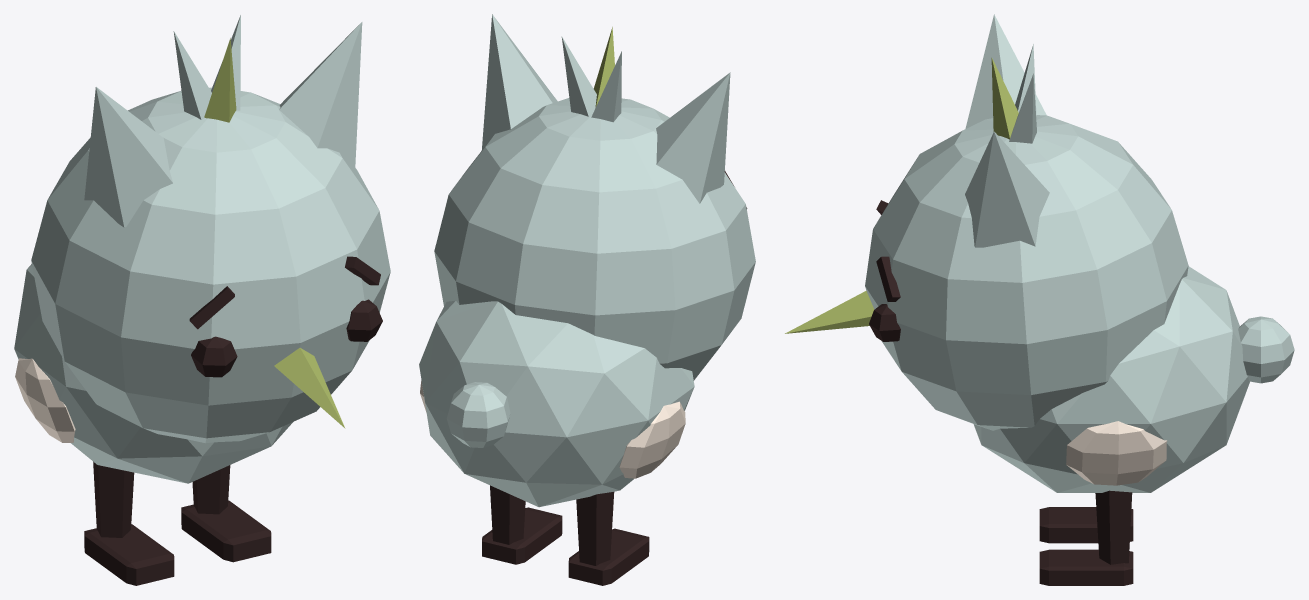
File: bird-volcanic-6266.glb
3 renders of one model, left to right at view 1: azimuth 30°, elevation 25°; view 2: azimuth 150°, elevation 25°; view 3: azimuth 270°, elevation 25°, orthographic. The views are drawn at different scales.
Visible parts, largest first — view 1: bird-volcanic-6266; view 2: bird-volcanic-6266; view 3: bird-volcanic-6266.
Part boxes in pixels (x1,y1,x2,y2): bird-volcanic-6266: (14, 15, 390, 585); bird-volcanic-6266: (419, 14, 755, 585); bird-volcanic-6266: (785, 14, 1294, 585).
Size of the model in its own units: 0.53 by 0.9 by 0.8339.
